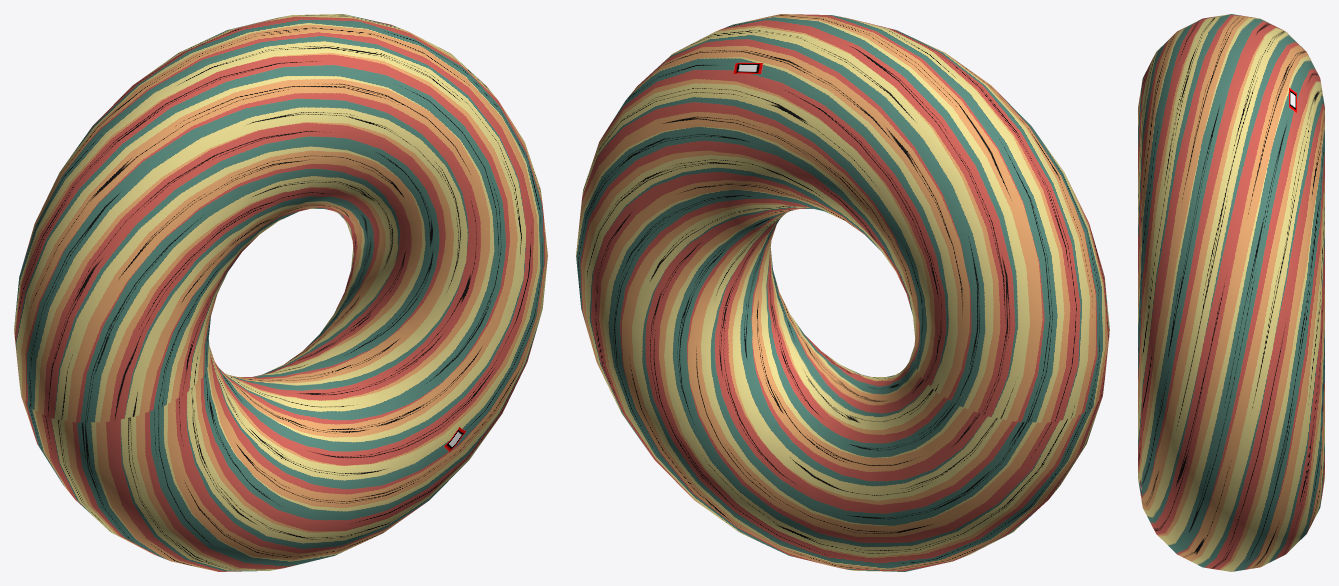
The model's file is uv_checkerboard_res_1024_iter_766_cat_map.obj.
3 renders of one model, left to right at view 1: azimuth 30°, elevation 25°; view 2: azimuth 150°, elevation 25°; view 3: azimuth 270°, elevation 25°, orthographic. The views are drawn at different scales.
Bounding box in the file's own units: 3 × 2.98 × 1.
